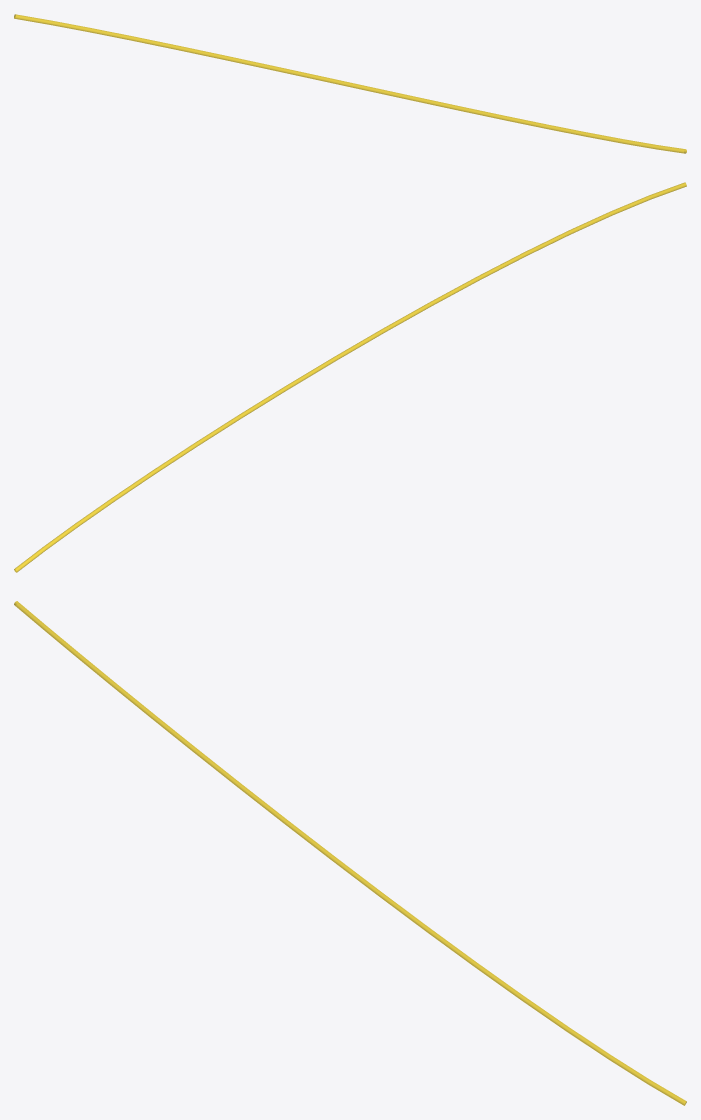
The model's file is Event_31209032_track_4.fbx.
3 views of the same model, one above another, from view 1: azimuth 30°, elevation 25°; view 2: azimuth 210°, elevation 25°; view 3: azimuth 330°, elevation 25° (orthographic). The views are drawn at different scales.
Visible parts, largest first — view 1: Model; view 2: Model; view 3: Model.
Boxes of the visible parts, x1,y1,x2,y2 form: Model: [14, 14, 686, 153]; Model: [14, 182, 686, 572]; Model: [14, 601, 686, 1105].
Size of the model in its own units: 6.35 by 2.54 by 0.7725.
